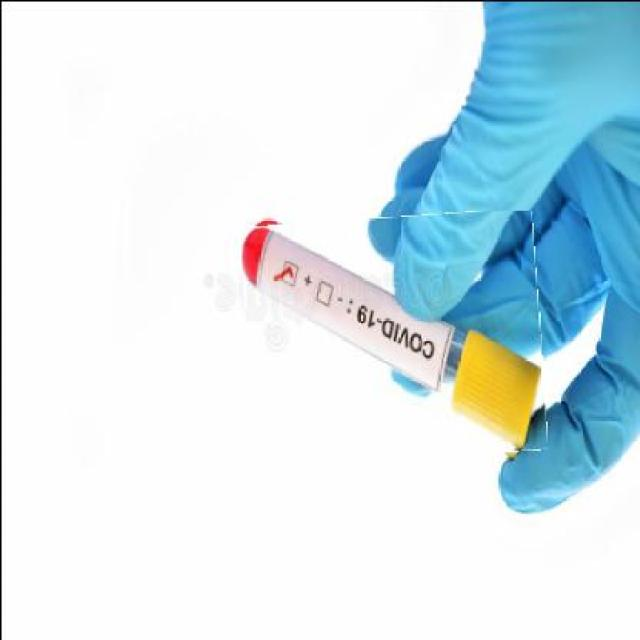Experimental-tube: (242, 212, 542, 463)
